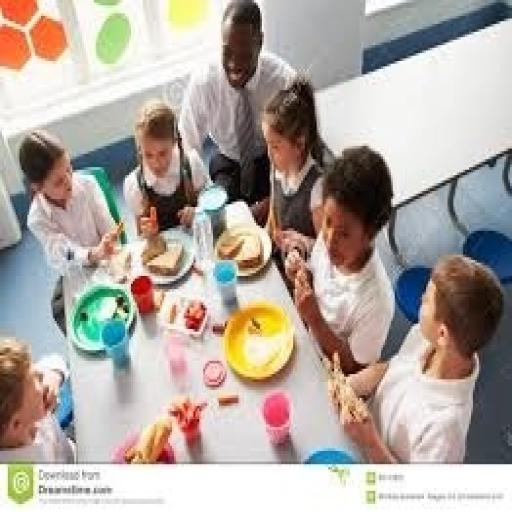eating: (328, 252, 504, 464), (281, 143, 397, 377), (176, 0, 303, 204), (16, 128, 123, 334), (248, 77, 336, 265), (119, 98, 213, 239), (0, 334, 76, 464)
